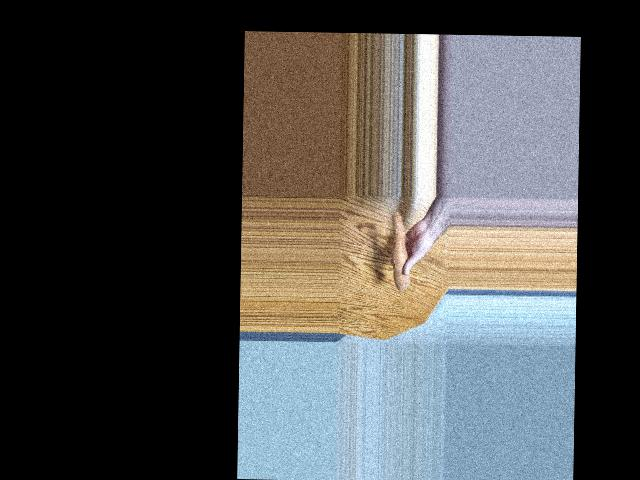sweet_potato: (389, 208, 408, 289)
